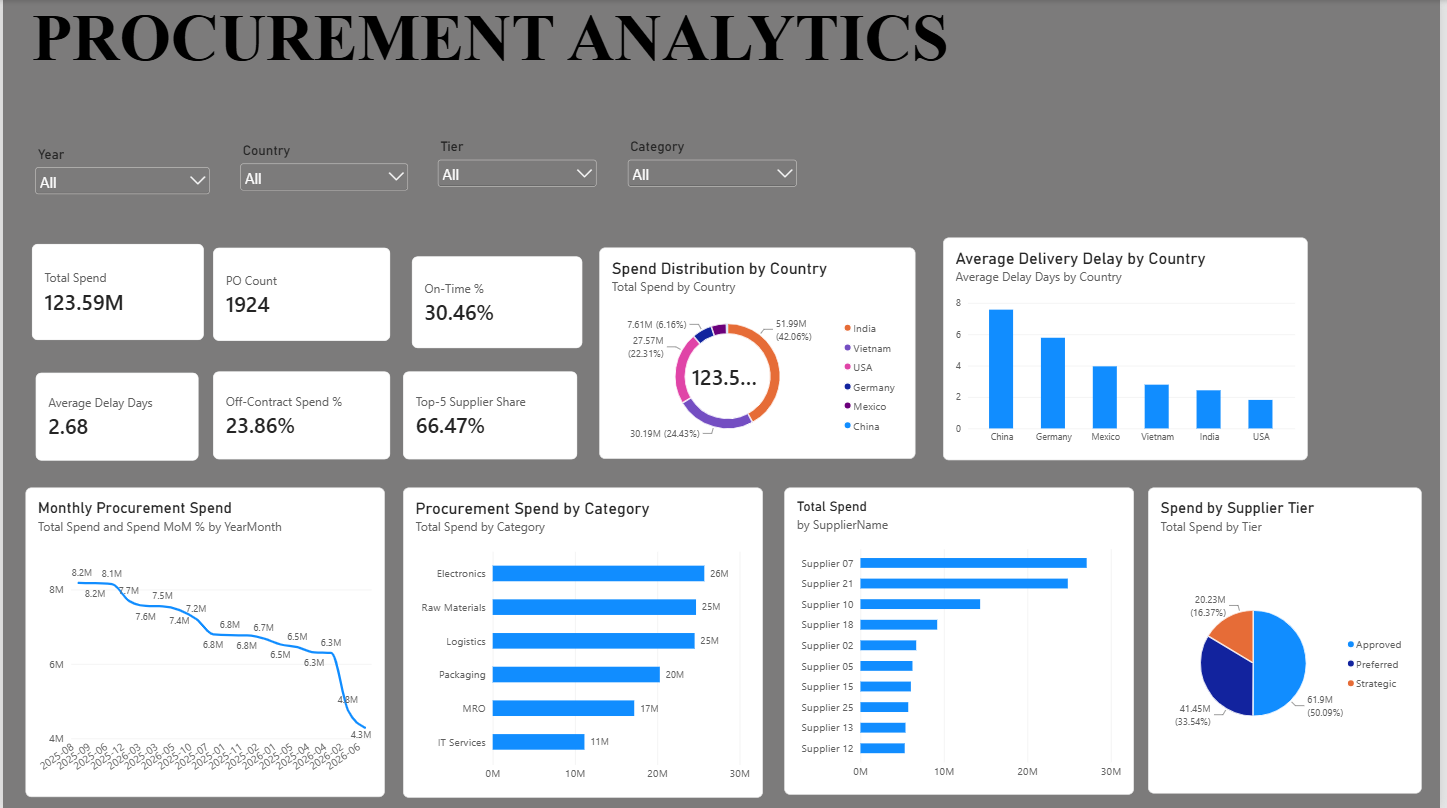

The dashboard page shown, as its layout file describes it:
{"tool":"powerbi","page":{"name":"Overview","canvas":[1920,1080],"ordinal":0},"visuals":[{"type":"lineChart","title":"Monthly Procurement Spend","fields":{"Category":["DimDate.YearMonth"],"Y":["DQ_Log.Total Spend"]},"box":[30.1,651.2,479.7,413.4],"z":0},{"type":"clusteredBarChart","title":"Procurement Spend by Category","fields":{"Category":["DimItem.Category"],"Y":["DQ_Log.Total Spend"]},"box":[534.3,651.2,480.9,414.1],"z":1},{"type":"slicer","fields":{"Values":["DimSupplier.Tier"]},"box":[576.1,185.3,221.5,92.4],"z":2},{"type":"slicer","fields":{"Values":["DimSupplier.Country"]},"box":[312.2,190.4,233.7,87.2],"z":4},{"type":"slicer","fields":{"Values":["DimDate.Year"]},"box":[38.4,195.4,242.4,76.7],"z":5},{"type":"cardVisual","fields":{"Data":["DQ_Log.PO Count"]},"box":[280.5,330.6,237.2,125.6],"z":12},{"type":"cardVisual","fields":{"Data":["DQ_Log.Average Delay Days"]},"box":[43.4,497.6,218,118.6],"z":13},{"type":"cardVisual","fields":{"Data":["DQ_Log.On-Time %"]},"box":[546,342.3,228.5,123.8],"z":14},{"type":"cardVisual","fields":{"Data":["DQ_Log.Total Spend"]},"box":[38.4,325.6,230.2,129.1],"z":15},{"type":"cardVisual","fields":{"Data":["DQ_Log.Off-Contract Spend %"]},"box":[280.5,495.9,237.2,118.6],"z":16},{"type":"cardVisual","fields":{"Data":["DQ_Log.Top-5 Supplier Share"]},"box":[534.3,495.9,233.7,118.6],"z":17},{"type":"slicer","fields":{"Values":["DimItem.Category"]},"box":[829.9,185.3,235.5,87.2],"z":18},{"type":"donutChart","title":"Spend Distribution by Country","fields":{"Category":["DimSupplier.Country"],"Y":["DQ_Log.Total Spend"]},"box":[796.5,330.6,422.1,282.6],"z":19},{"type":"clusteredBarChart","fields":{"Category":["DimSupplier.SupplierName"],"Y":["DQ_Log.Total Spend"]},"box":[1043.6,651.2,467.5,410.8],"z":20},{"type":"pieChart","title":"Spend by Supplier Tier","fields":{"Category":["DimSupplier.Tier"],"Y":["DQ_Log.Total Spend"]},"box":[1529.5,651.2,365.7,409.1],"z":21},{"type":"clusteredColumnChart","title":"Average Delivery Delay by Country","fields":{"Category":["DimSupplier.Country"],"Y":["DQ_Log.Average Delay Days"]},"box":[1255.7,317.3,487.6,297.2],"z":22},{"type":"textbox","box":[38.4,0,1350.8,150.3],"z":23}]}

Visuals, with their boxes in screenshot pixels (x1, y1, x2, y2), scaled from the page's 1920x1080 canvas onto the 1447x808 screenshot:
"Monthly Procurement Spend" lineChart: [left=23, top=487, right=384, bottom=796]
"Procurement Spend by Category" clusteredBarChart: [left=403, top=487, right=765, bottom=797]
slicer - DimSupplier.Tier: [left=434, top=139, right=601, bottom=208]
slicer - DimSupplier.Country: [left=235, top=142, right=411, bottom=208]
slicer - DimDate.Year: [left=29, top=146, right=212, bottom=204]
cardVisual - DQ_Log.PO Count: [left=211, top=247, right=390, bottom=341]
cardVisual - DQ_Log.Average Delay Days: [left=33, top=372, right=197, bottom=461]
cardVisual - DQ_Log.On-Time %: [left=411, top=256, right=584, bottom=349]
cardVisual - DQ_Log.Total Spend: [left=29, top=244, right=202, bottom=340]
cardVisual - DQ_Log.Off-Contract Spend %: [left=211, top=371, right=390, bottom=460]
cardVisual - DQ_Log.Top-5 Supplier Share: [left=403, top=371, right=579, bottom=460]
slicer - DimItem.Category: [left=625, top=139, right=803, bottom=204]
"Spend Distribution by Country" donutChart: [left=600, top=247, right=918, bottom=459]
clusteredBarChart - DimSupplier.SupplierName x DQ_Log.Total Spend: [left=787, top=487, right=1139, bottom=795]
"Spend by Supplier Tier" pieChart: [left=1153, top=487, right=1428, bottom=793]
"Average Delivery Delay by Country" clusteredColumnChart: [left=946, top=237, right=1314, bottom=460]
textbox: [left=29, top=0, right=1047, bottom=112]
